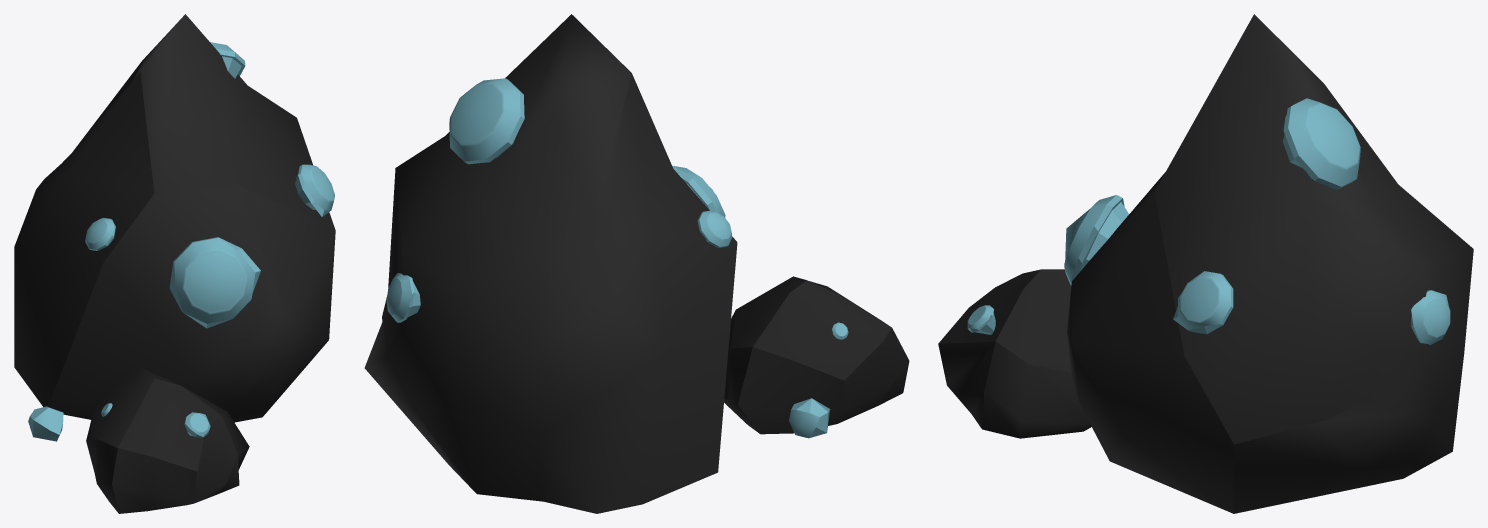
File: hallie_diamond.fbx
3 views of the same model, side by side, from view 1: azimuth 30°, elevation 25°; view 2: azimuth 150°, elevation 25°; view 3: azimuth 270°, elevation 25° (orthographic). The views are drawn at different scales.
Visible parts, largest first — view 1: m_oreRock, m_oreRock3, m_diaGem2, m_diaGem4, m_oreRock2, m_diaGem3, m_diaGem, m_diaGem1; view 2: m_oreRock, m_oreRock3, m_diaGem, m_oreRock2, m_diaGem5, m_diaGem3, m_diaGem2; view 3: m_oreRock, m_oreRock3, m_diaGem, m_diaGem2, m_diaGem4, m_diaGem5, m_diaGem1.
Part boxes in pixels (left/top/right/bottom): m_oreRock: left=14, top=14, right=335, bottom=422; m_oreRock3: left=86, top=367, right=249, bottom=513; m_diaGem2: left=169, top=237, right=260, bottom=328; m_diaGem4: left=295, top=164, right=334, bottom=216; m_oreRock2: left=28, top=406, right=63, bottom=441; m_diaGem3: left=85, top=218, right=115, bottom=250; m_diaGem: left=210, top=42, right=245, bottom=78; m_diaGem1: left=184, top=412, right=210, bottom=437; m_oreRock: left=364, top=14, right=737, bottom=513; m_oreRock3: left=724, top=276, right=909, bottom=434; m_diaGem: left=449, top=78, right=524, bottom=164; m_oreRock2: left=789, top=398, right=830, bottom=438; m_diaGem5: left=386, top=273, right=420, bottom=322; m_diaGem3: left=697, top=210, right=732, bottom=248; m_diaGem2: left=672, top=165, right=725, bottom=217; m_oreRock: left=1067, top=14, right=1473, bottom=513; m_oreRock3: left=938, top=269, right=1091, bottom=438; m_diaGem: left=1283, top=98, right=1360, bottom=189; m_diaGem2: left=1064, top=195, right=1128, bottom=285; m_diaGem4: left=1173, top=271, right=1233, bottom=334; m_diaGem5: left=1411, top=290, right=1450, bottom=344; m_diaGem1: left=967, top=305, right=995, bottom=334.
Size of the model in its own units: 2.41 by 2.66 by 2.84.
